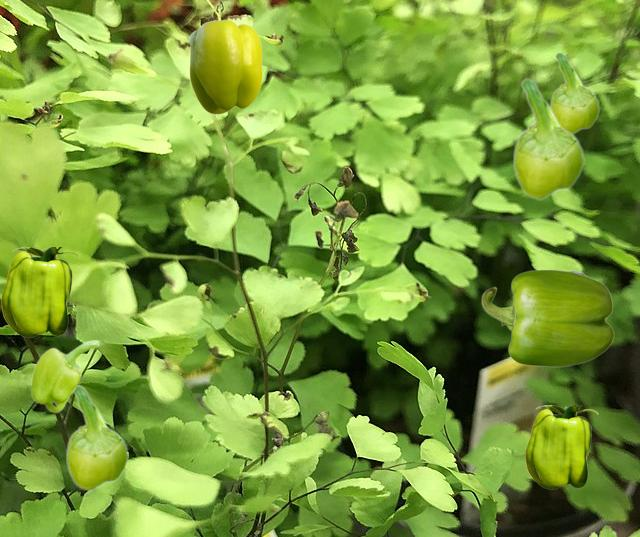bell_pepper: (481, 269, 613, 366), (512, 78, 584, 199), (188, 19, 261, 113), (1, 247, 78, 336), (65, 385, 128, 490), (525, 405, 597, 488), (30, 339, 99, 412), (549, 52, 599, 133)
